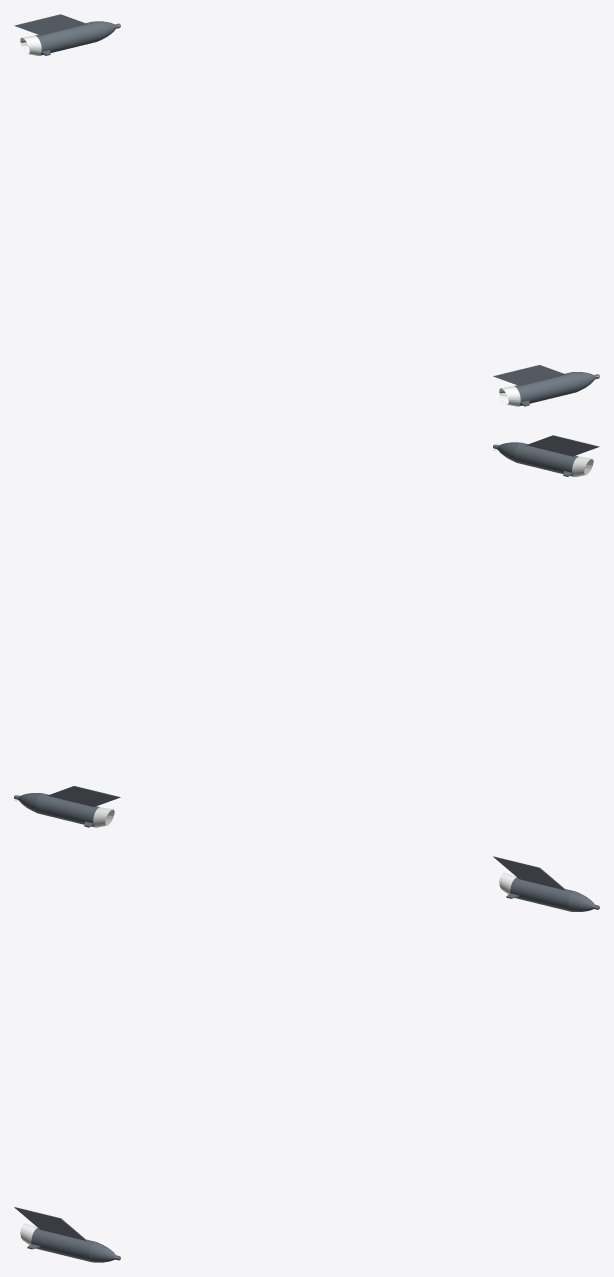
The model's file is kc135dgoff1.glb.
The picture shows the model from 3 angles, top to bottom: view 1: azimuth 30°, elevation 25°; view 2: azimuth 150°, elevation 25°; view 3: azimuth 330°, elevation 25°; orthographic projection.
Visible parts, largest first — view 1: 立方体.007, 立方体.008; view 2: 立方体.008, 立方体.007; view 3: 立方体.008, 立方体.007.
Boxes of the visible parts, x1,y1,x2,y2 form: 立方体.007: (14,14,120,55); 立方体.008: (493,365,599,406); 立方体.008: (493,435,599,476); 立方体.007: (14,786,120,827); 立方体.008: (14,1207,120,1262); 立方体.007: (493,856,599,911).
Size of the model in its own units: 4.58 by 1.44 by 36.99.
Materials: 4 (1 with a texture image).
